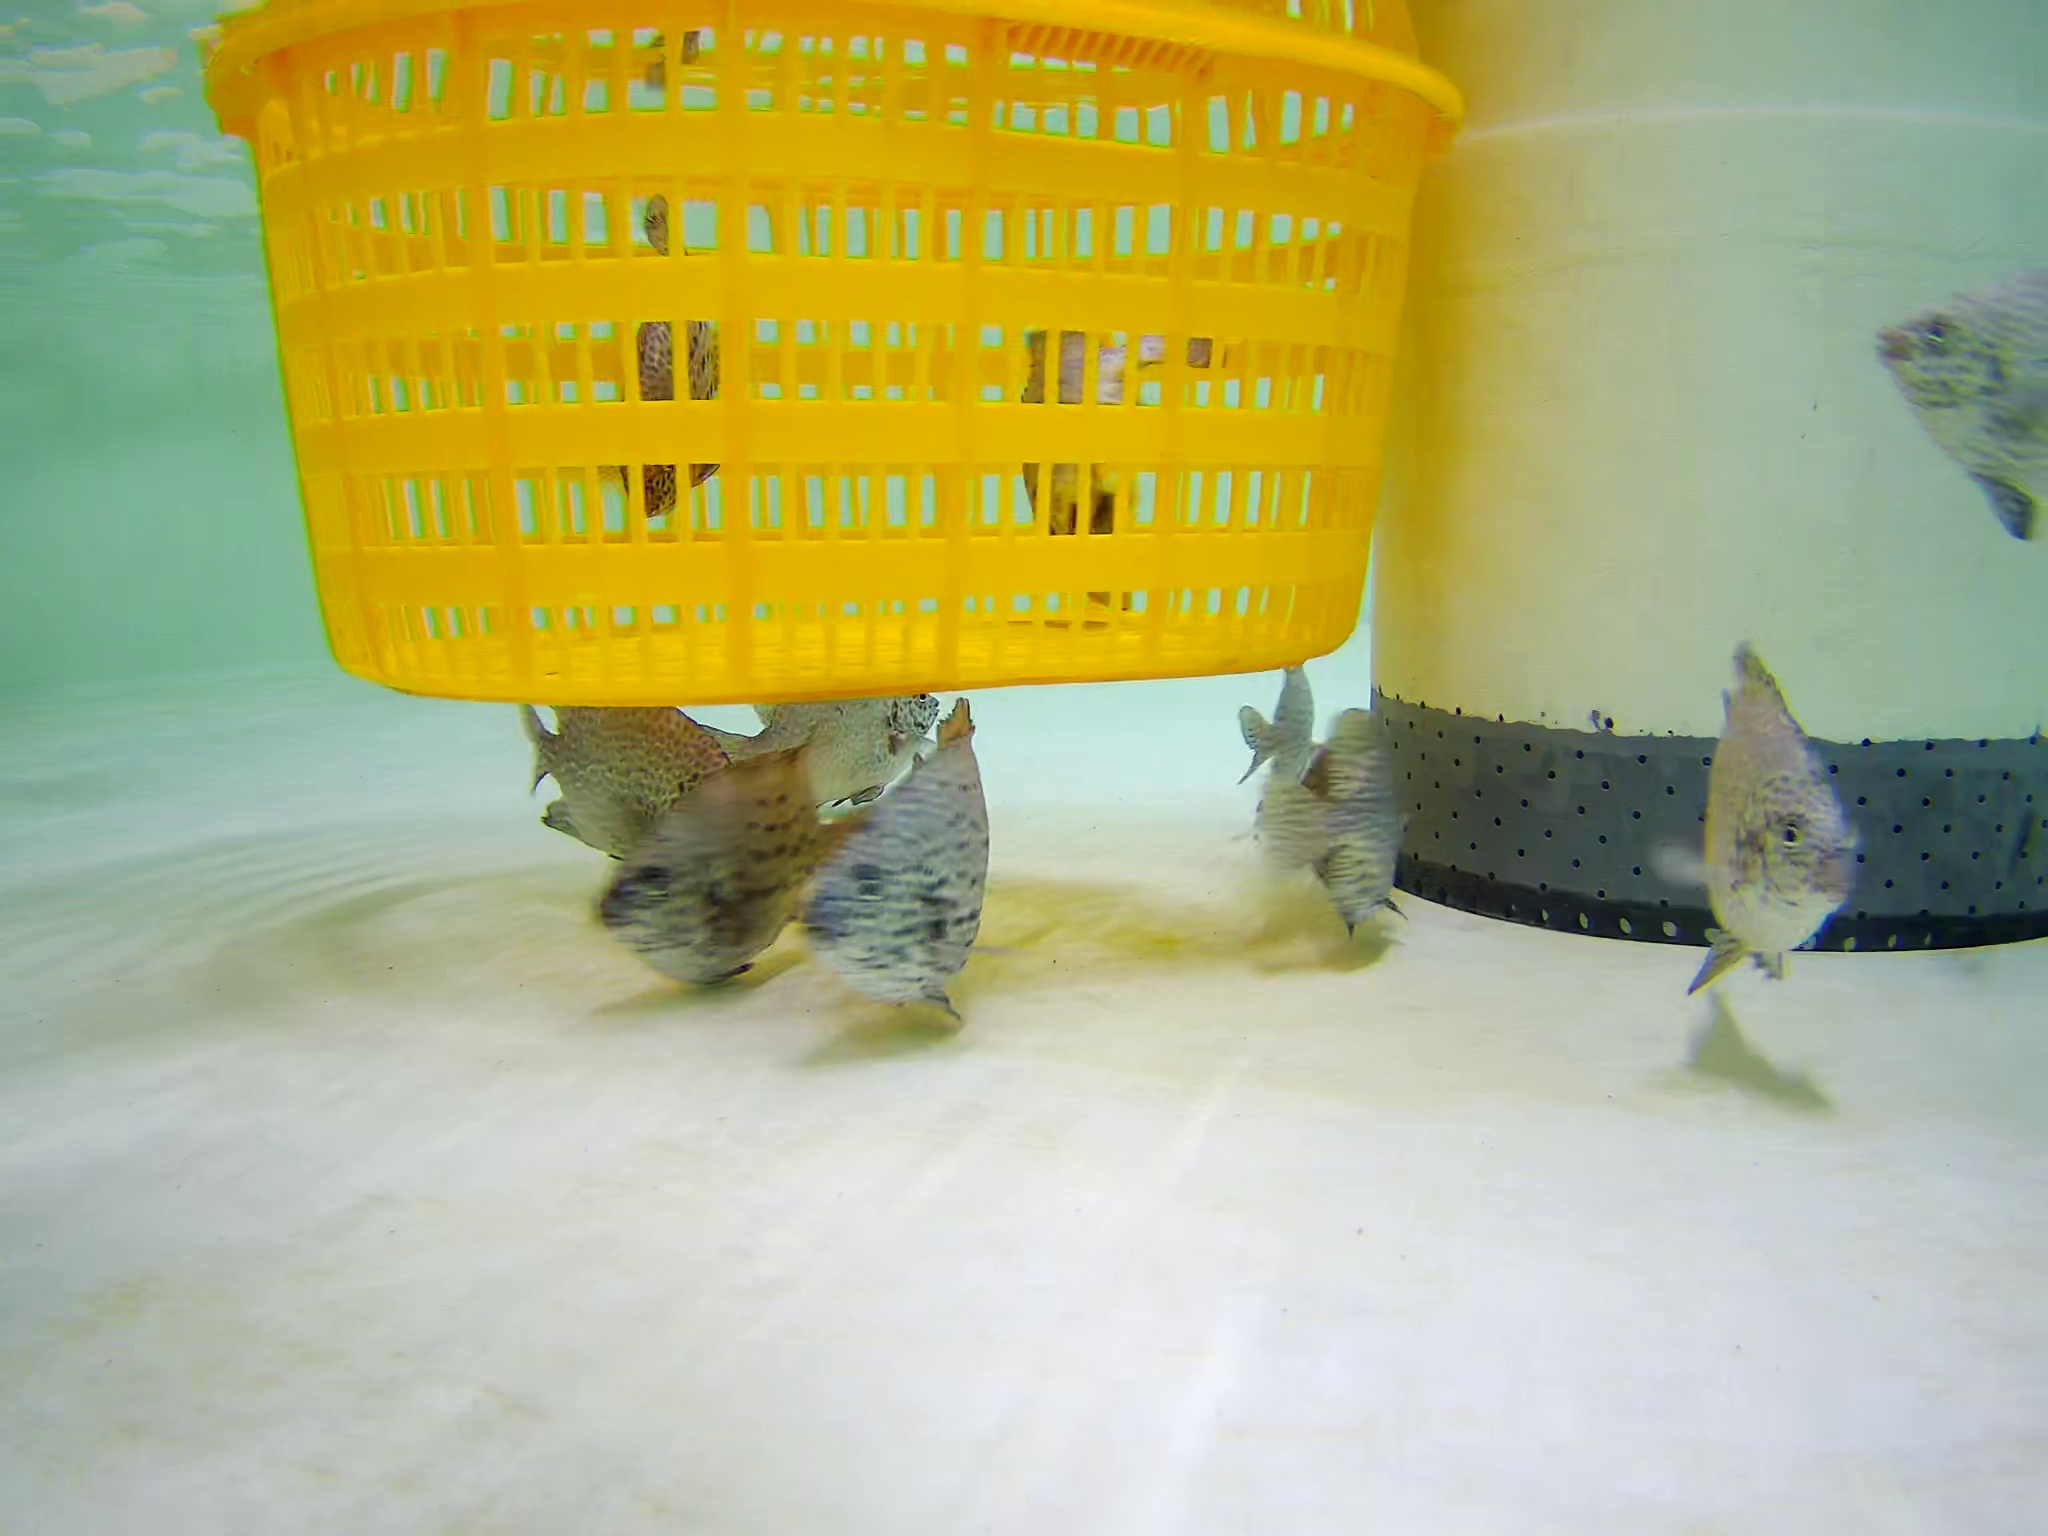fish: (595, 745, 869, 1007), (790, 691, 995, 1029), (1674, 636, 1858, 999), (597, 194, 740, 531), (1882, 263, 2048, 526), (689, 673, 956, 834), (1016, 266, 1132, 615), (524, 689, 735, 874), (1313, 707, 1414, 942), (1242, 655, 1327, 892)
